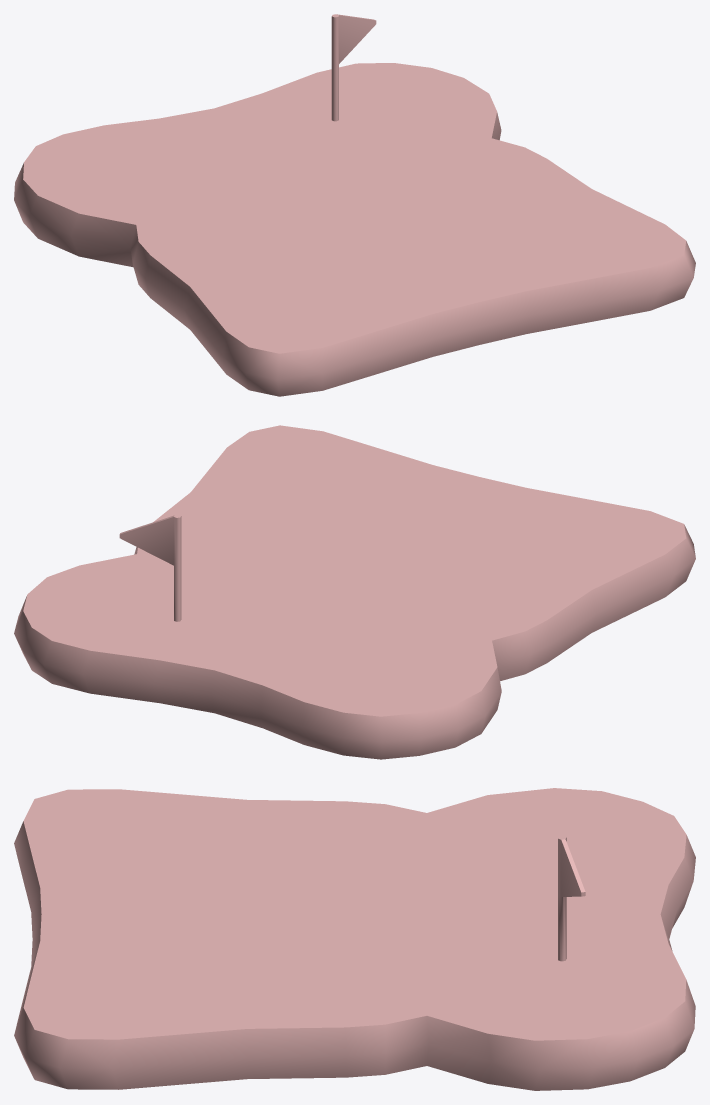
File: PROPS_GOODS_FRENCHTOAST_MODEL.fbx
3 renders of one model, top to bottom at view 1: azimuth 30°, elevation 25°; view 2: azimuth 150°, elevation 25°; view 3: azimuth 270°, elevation 25°, orthographic. The views are drawn at different scales.
Visible parts, largest first — view 1: PROPS_GOODS_FRENCHTOAST_MODEL; view 2: PROPS_GOODS_FRENCHTOAST_MODEL; view 3: PROPS_GOODS_FRENCHTOAST_MODEL.
Boxes of the visible parts, box(x1,y1,x2,y2) form: PROPS_GOODS_FRENCHTOAST_MODEL: box(14, 14, 695, 396); PROPS_GOODS_FRENCHTOAST_MODEL: box(14, 425, 695, 759); PROPS_GOODS_FRENCHTOAST_MODEL: box(14, 788, 695, 1090).
Size of the model in its own units: 13.35 by 4.12 by 14.81.
